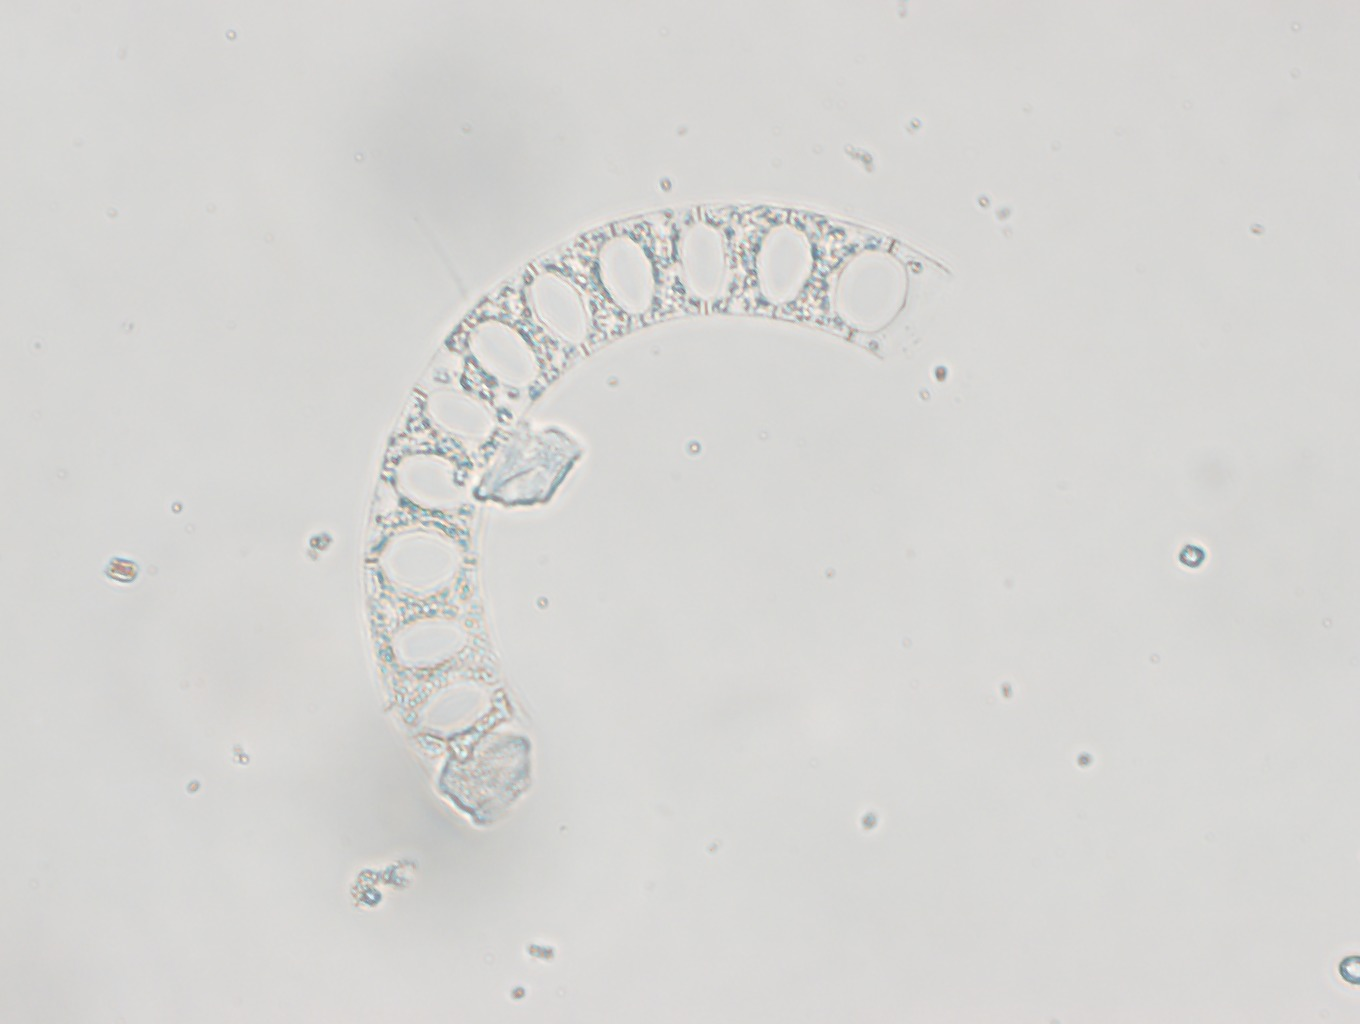eucampia: (357, 191, 963, 834)
